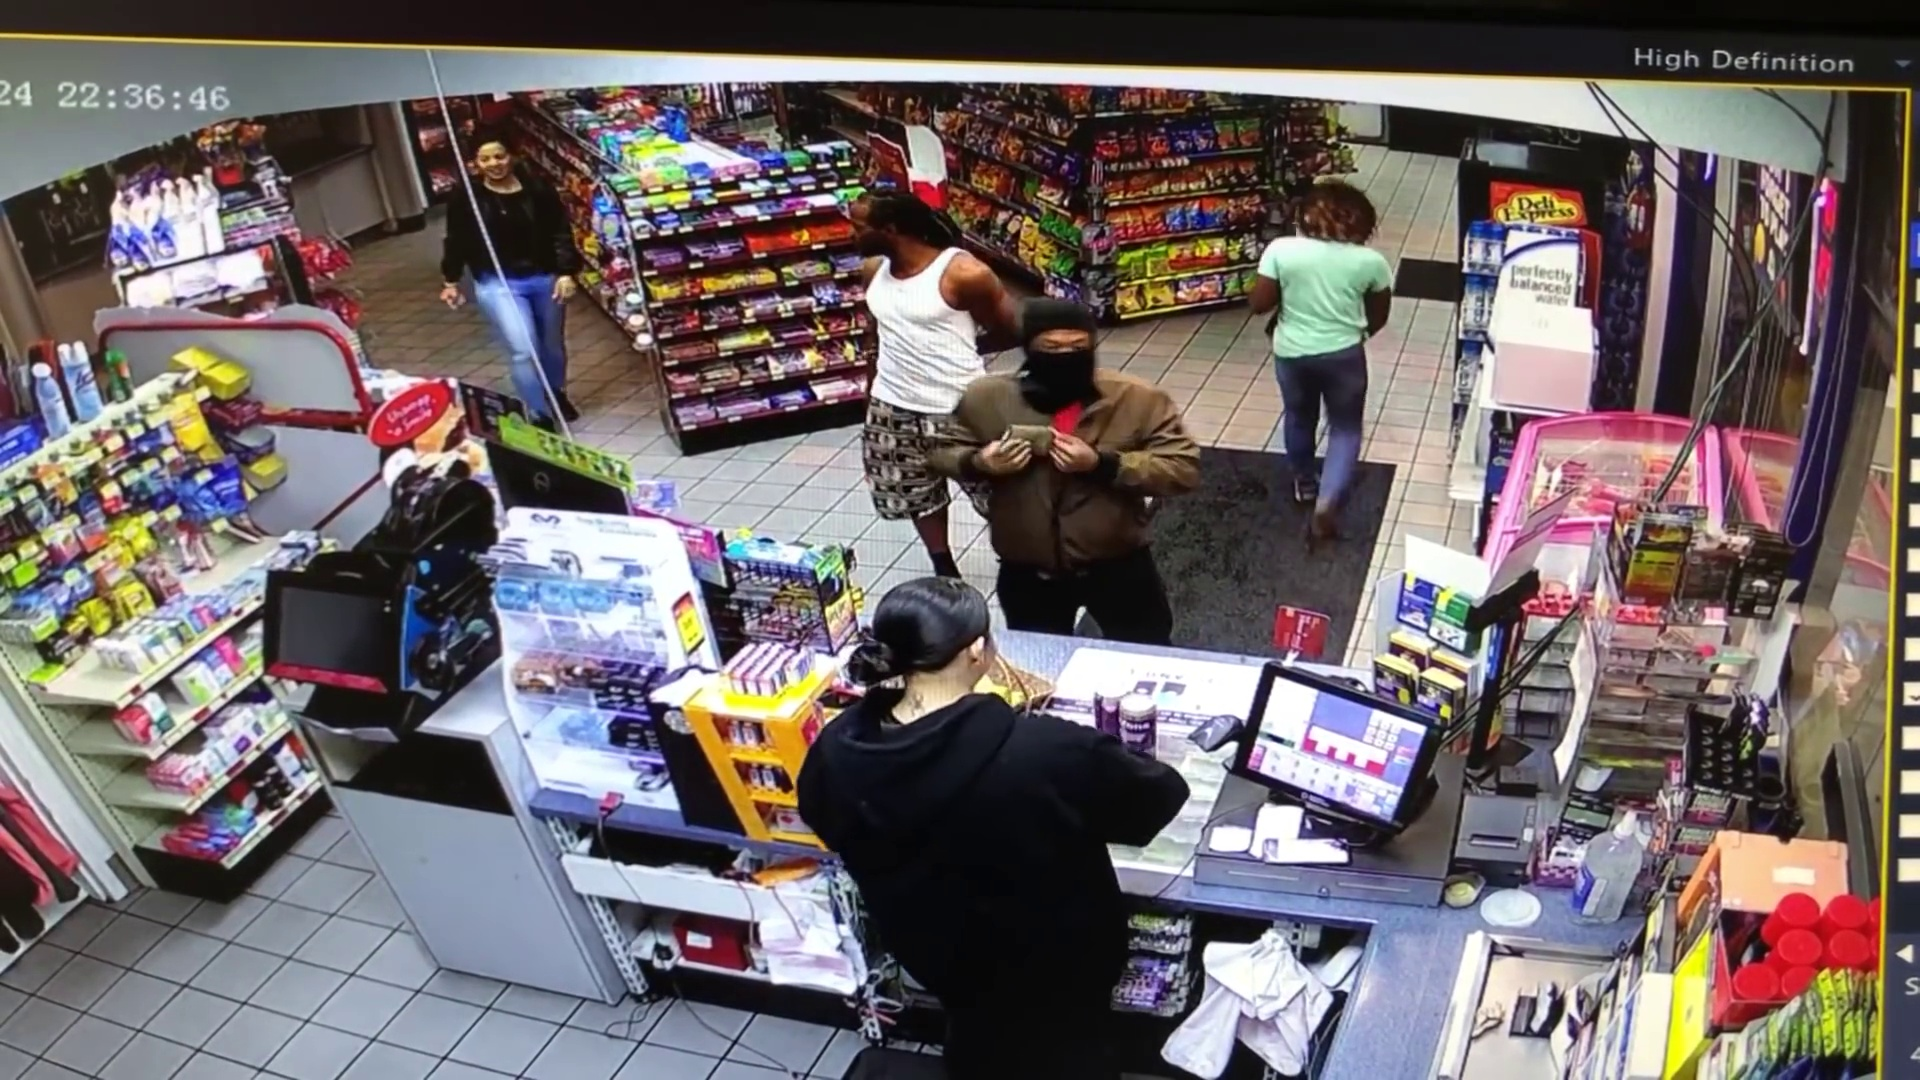face: (1030, 314, 1093, 381), (846, 199, 882, 267), (474, 139, 514, 181)
